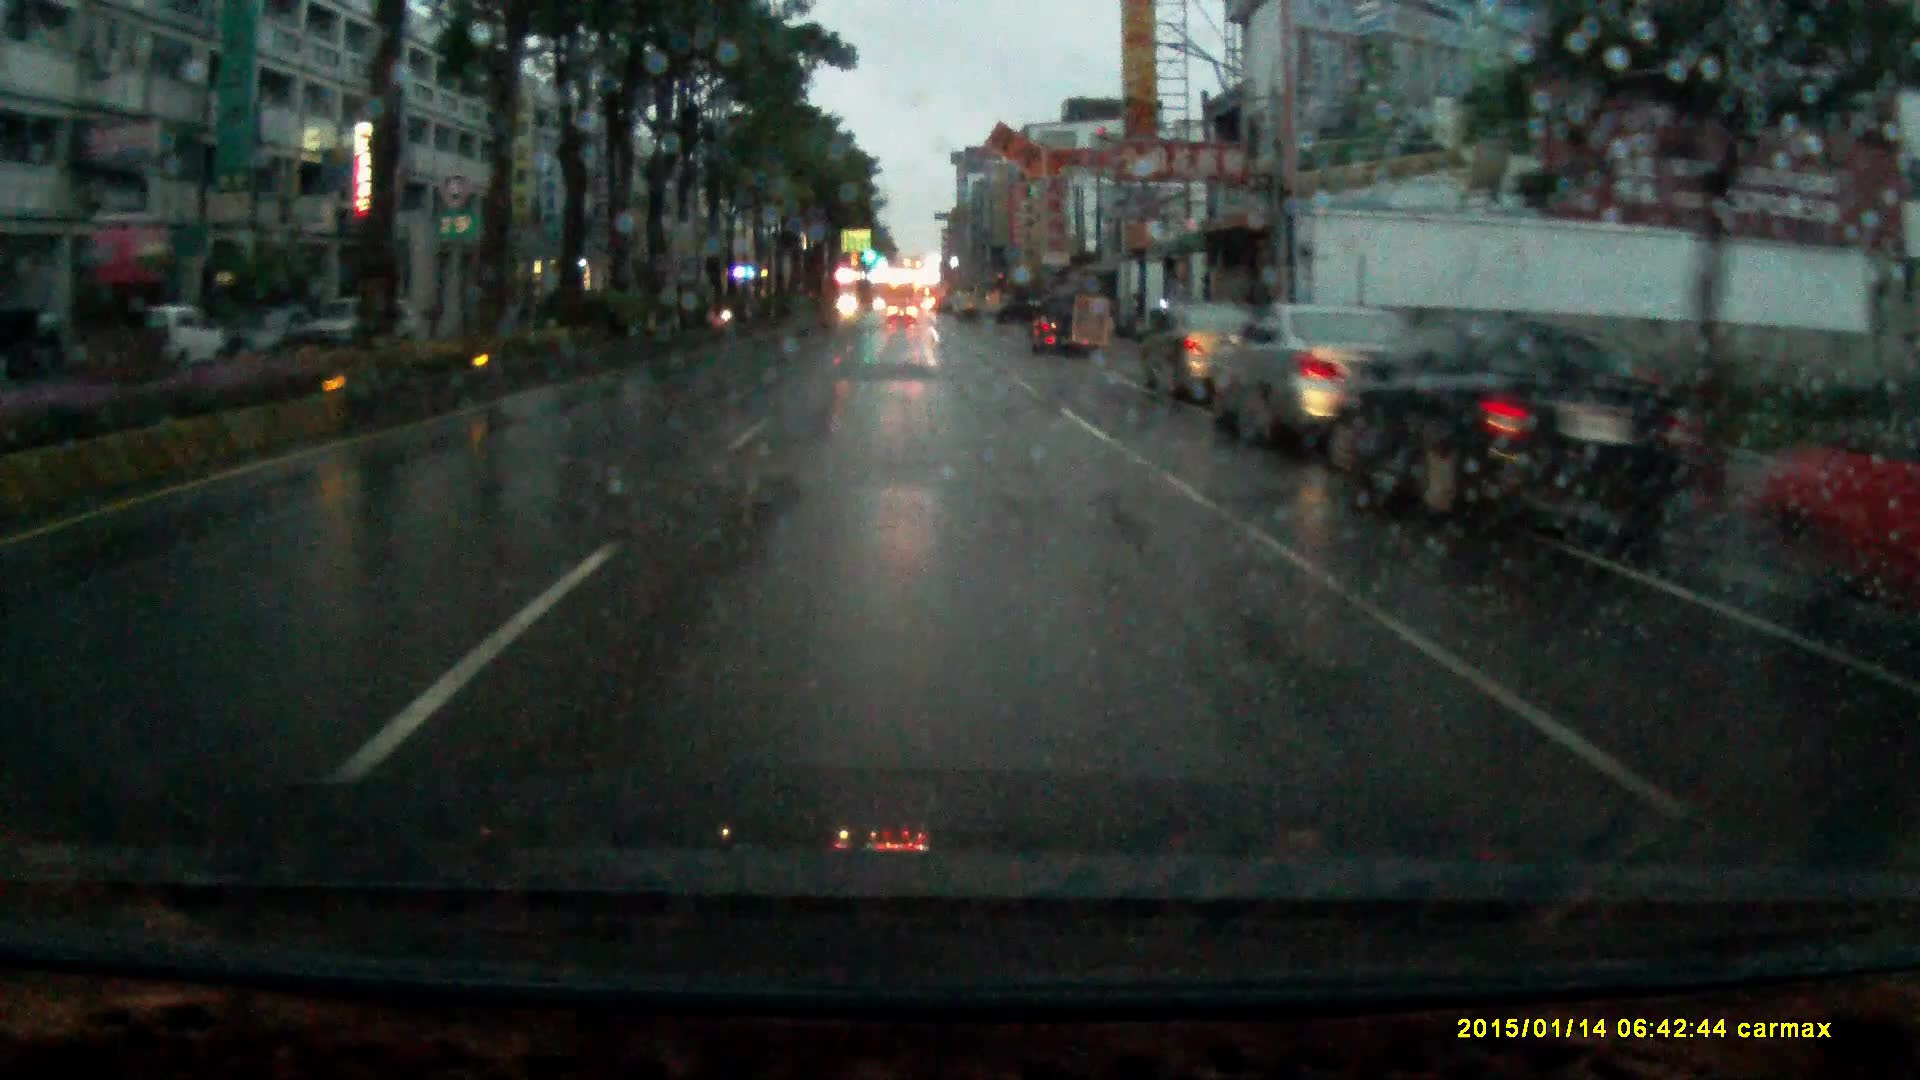vehicle: (1350, 305, 1627, 512), (1211, 295, 1489, 440), (1139, 299, 1262, 405), (294, 294, 419, 352), (136, 306, 228, 367), (1027, 289, 1095, 363), (886, 297, 920, 326)
